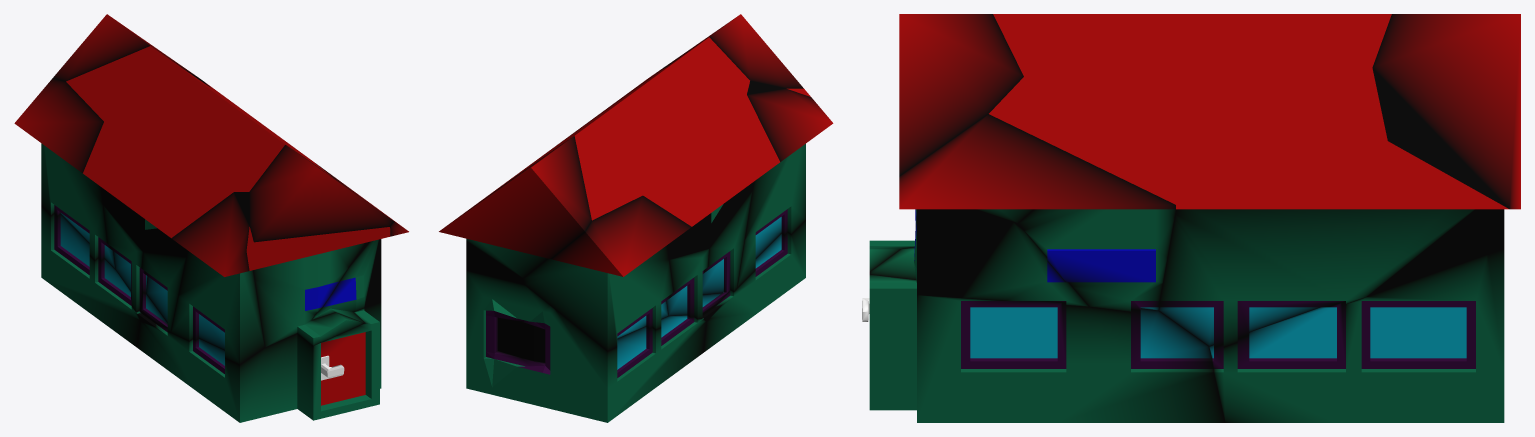
The model's file is Village_Hotel_1_D.fbx.
The picture shows the model from 3 angles, left to right: view 1: azimuth 30°, elevation 25°; view 2: azimuth 150°, elevation 25°; view 3: azimuth 270°, elevation 25°; orthographic projection. The views are drawn at different scales.
Visible parts, largest first — view 1: Village_Hotel_1_fracturepart6_2, Village_Hotel_1_fracturepart13_2, Village_Hotel_1_fracturepart8, Village_Hotel_1_fracturepart4_2, Village_Hotel_1_fracturepart12, Village_Hotel_1_fracturepart14, Village_Hotel_1_fracturepart1_3, Village_Hotel_1_fracturepart18_2, Village_Hotel_1_fracturepart10_2, Village_Hotel_1_fracturepart18, Village_Hotel_1_fracturepart12_2, Village_Hotel_1_fracturepart11_2 (+7 smaller); view 2: Village_Hotel_1_fracturepart14, Village_Hotel_1_fracturepart15_2, Village_Hotel_1_fracturepart18, Village_Hotel_1_fracturepart13_2, Village_Hotel_1_fracturepart18_2, Village_Hotel_1_fracturepart6_2, Village_Hotel_1_fracturepart1_3, Village_Hotel_1_fracturepart12, Village_Hotel_1_fracturepart10_2, Village_Hotel_1_fracturepart11_2, Village_Hotel_1_fracturepart12_2, Village_Hotel_1_fracturepart7 (+5 smaller); view 3: Village_Hotel_1_fracturepart6_2, Village_Hotel_1_fracturepart14, Village_Hotel_1_fracturepart3, Village_Hotel_1_fracturepart16_2, Village_Hotel_1_fracturepart15_2, Village_Hotel_1_fracturepart13_2, Village_Hotel_1_fracturepart3_2, Village_Hotel_1_fracturepart17_2, Village_Hotel_1_fracturepart8, Village_Hotel_1_fracturepart5_3, Village_Hotel_1_fracturepart9, Village_Hotel_1_fracturepart9_2 (+2 smaller).
Boxes of the visible parts, x1,y1,x2,y2 form: Village_Hotel_1_fracturepart6_2: (137,302,381,422); Village_Hotel_1_fracturepart13_2: (155,86,301,191); Village_Hotel_1_fracturepart8: (249,145,393,242); Village_Hotel_1_fracturepart4_2: (253,242,365,347); Village_Hotel_1_fracturepart12: (171,250,264,364); Village_Hotel_1_fracturepart14: (41,206,140,347); Village_Hotel_1_fracturepart1_3: (83,110,169,200); Village_Hotel_1_fracturepart18_2: (14,78,103,173); Village_Hotel_1_fracturepart10_2: (66,46,178,121); Village_Hotel_1_fracturepart18: (41,143,115,268); Village_Hotel_1_fracturepart12_2: (171,192,249,276); Village_Hotel_1_fracturepart11_2: (121,168,233,238); Village_Hotel_1_fracturepart14: (466,270,706,422); Village_Hotel_1_fracturepart15_2: (439,136,591,259); Village_Hotel_1_fracturepart18: (523,245,673,351); Village_Hotel_1_fracturepart13_2: (601,37,749,160); Village_Hotel_1_fracturepart18_2: (551,195,691,276); Village_Hotel_1_fracturepart6_2: (703,220,805,352); Village_Hotel_1_fracturepart1_3: (640,136,729,226); Village_Hotel_1_fracturepart12: (737,144,805,288); Village_Hotel_1_fracturepart10_2: (563,122,642,220); Village_Hotel_1_fracturepart11_2: (703,95,779,198); Village_Hotel_1_fracturepart12_2: (747,81,833,161); Village_Hotel_1_fracturepart7: (702,182,753,321); Village_Hotel_1_fracturepart6_2: (869,274,1225,422); Village_Hotel_1_fracturepart14: (1209,248,1504,422); Village_Hotel_1_fracturepart3: (1158,209,1504,347); Village_Hotel_1_fracturepart16_2: (1168,14,1387,162); Village_Hotel_1_fracturepart15_2: (1372,14,1520,209); Village_Hotel_1_fracturepart13_2: (993,14,1227,128); Village_Hotel_1_fracturepart3_2: (1176,141,1508,209); Village_Hotel_1_fracturepart17_2: (899,114,1175,209); Village_Hotel_1_fracturepart8: (899,14,1023,176); Village_Hotel_1_fracturepart5_3: (869,209,1088,306); Village_Hotel_1_fracturepart9: (1018,209,1176,311); Village_Hotel_1_fracturepart9_2: (989,77,1184,204).
Bounding box in the file's own units: 458 × 573 × 955.
